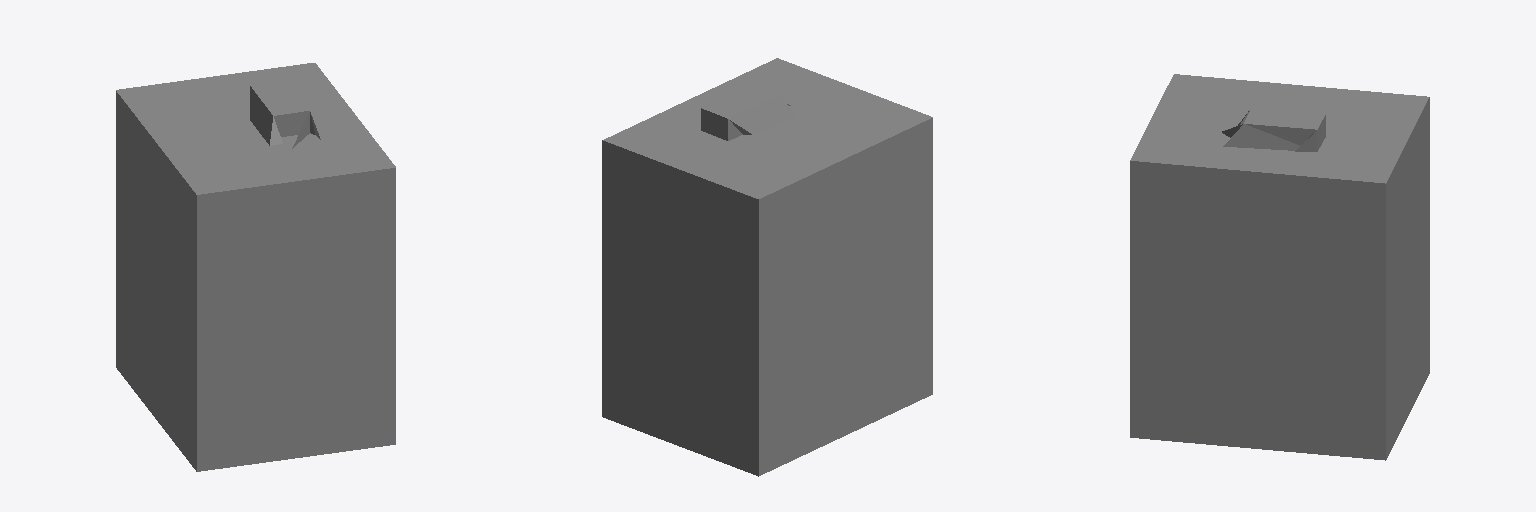
File: House_type-2.obj
3 renders of one model, left to right at view 1: azimuth 30°, elevation 25°; view 2: azimuth 150°, elevation 25°; view 3: azimuth 270°, elevation 25°, orthographic.
Visible parts, largest first — view 1: floor6, floor1, wall; view 2: floor6, floor1, wall; view 3: floor6, floor1, wall.
Boxes of the visible parts, x1,y1,x2,y2 form: floor6: [116, 63, 395, 471]; floor1: [250, 81, 309, 136]; wall: [250, 86, 320, 145]; floor6: [602, 58, 932, 476]; floor1: [701, 85, 777, 140]; wall: [729, 95, 795, 134]; floor6: [1130, 74, 1429, 460]; floor1: [1244, 108, 1325, 150]; wall: [1223, 110, 1316, 151].
Bounding box in the file's own units: 2058 × 2623 × 2376.